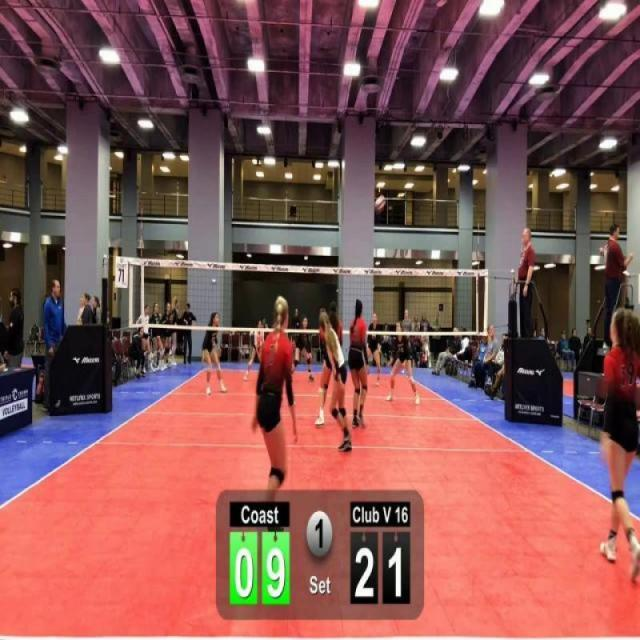volleyball: (374, 194, 386, 214)
